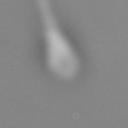normal: (35, 1, 61, 37)
